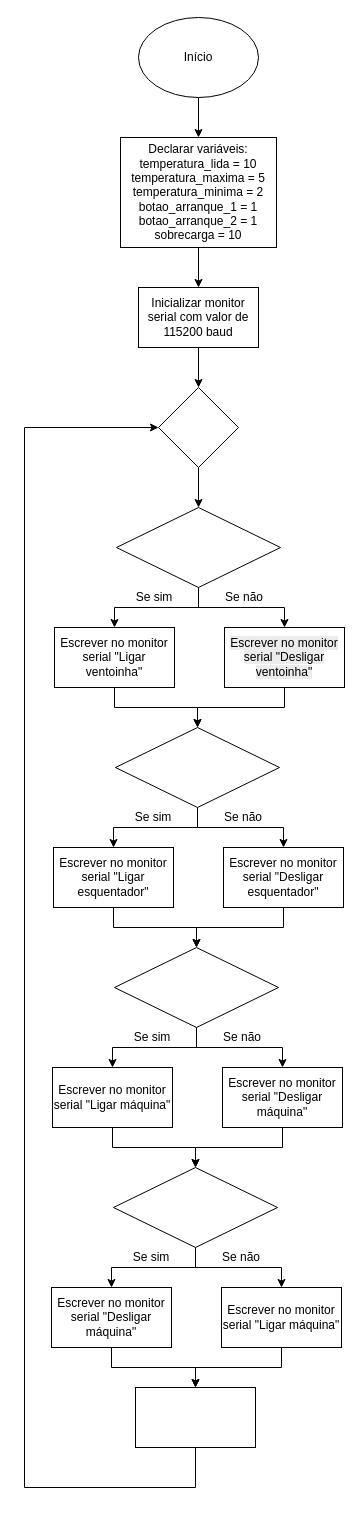
Some shapes in this 362 by 1513 pixel diagram are drawn without their labels. Here are the shapes that lost their labels. From the top down, the box of each, then its label:
(158, 386, 238, 468): Repetir sempre
(116, 506, 280, 588): temperatura_lida > temperatura_maxima ?
(114, 726, 280, 808): temperatura_lida > temperatura_minima ?
(114, 946, 278, 1028): botao_arranque1 = 1 e botao_arranque2 = 1
(112, 1166, 278, 1248): temperatura_lida > temperatura_maxima ou sobrecarga = 10?
(134, 1386, 256, 1448): Definir delay de 100 ms
